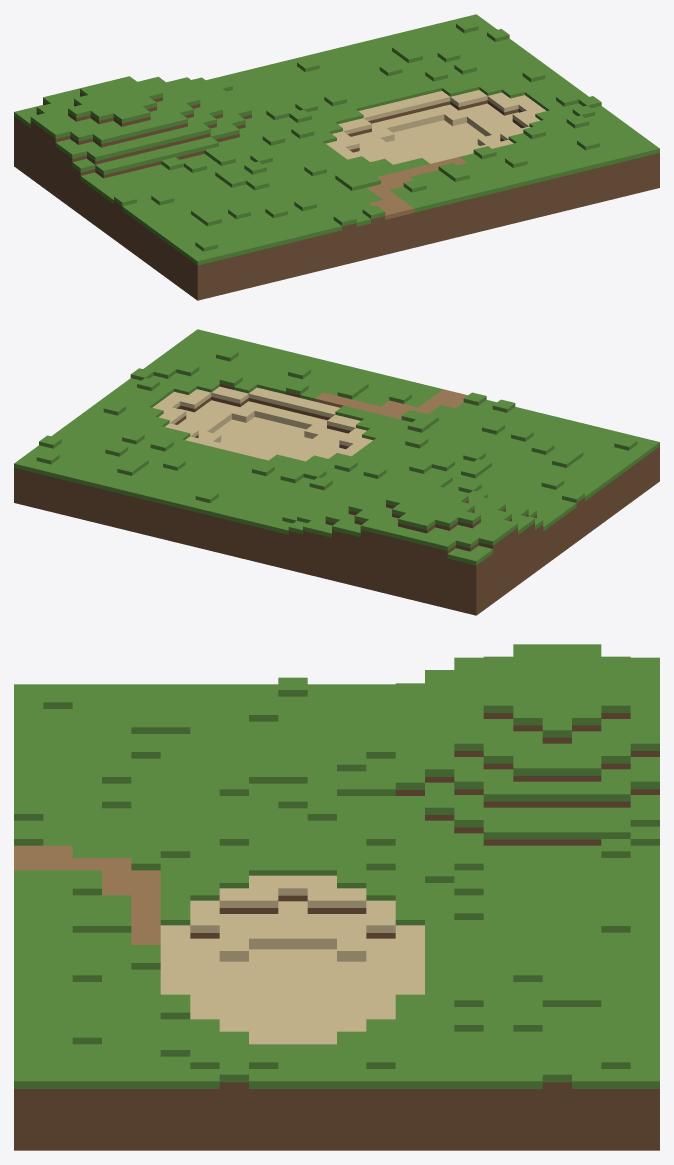
Rendered from D05_demo_island.obj.
3 renders of one model, top to bottom at view 1: azimuth 30°, elevation 25°; view 2: azimuth 150°, elevation 25°; view 3: azimuth 270°, elevation 25°, orthographic. The views are drawn at different scales.
Visible parts, largest first — view 1: D05_demo_island; view 2: D05_demo_island; view 3: D05_demo_island.
Boxes of the visible parts, x1=… form: D05_demo_island: x1=14, y1=14, x2=659, y2=300; D05_demo_island: x1=14, y1=329, x2=659, y2=615; D05_demo_island: x1=14, y1=644, x2=659, y2=1150.
Size of the model in its own units: 32 by 4.6 by 22.
